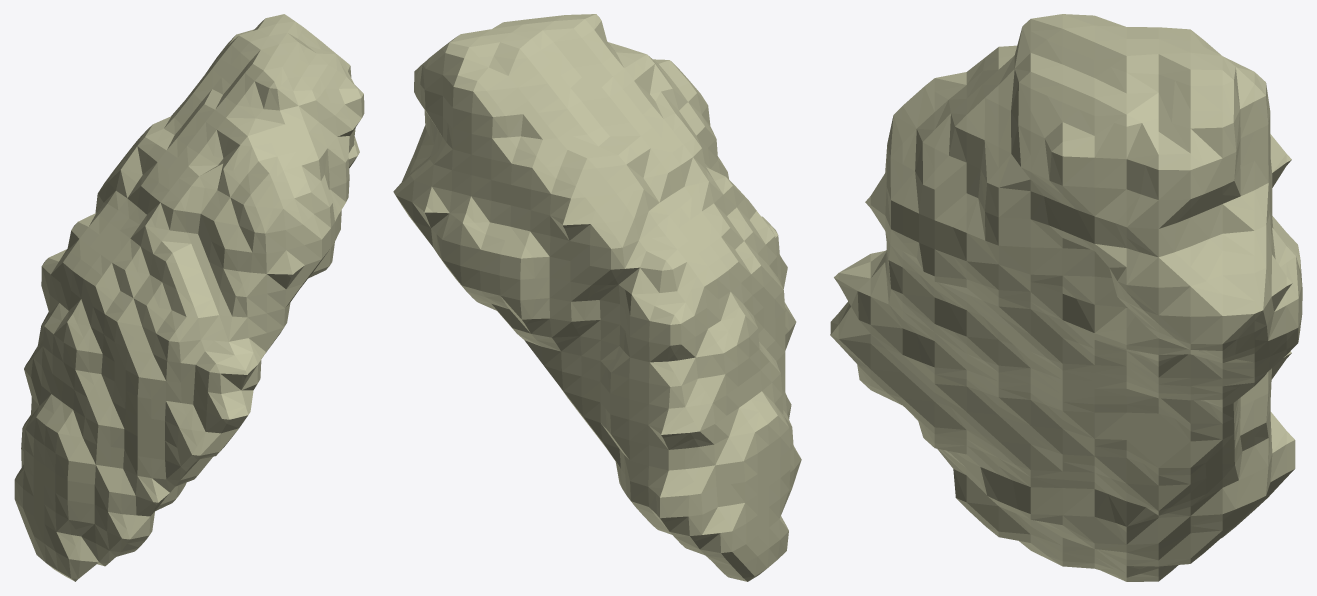
File: l_pallidum.glb
3 views of the same model, side by side, from view 1: azimuth 30°, elevation 25°; view 2: azimuth 150°, elevation 25°; view 3: azimuth 270°, elevation 25° (orthographic). The views are drawn at different scales.
Visible parts, largest first — view 1: world; view 2: world; view 3: world.
Boxes of the visible parts, x1=… form: world: x1=14, y1=14, x2=364, y2=581; world: x1=393, y1=14, x2=801, y2=581; world: x1=830, y1=14, x2=1302, y2=581.
Bounding box in the file's own units: 16.99 × 23.92 × 14.76.
